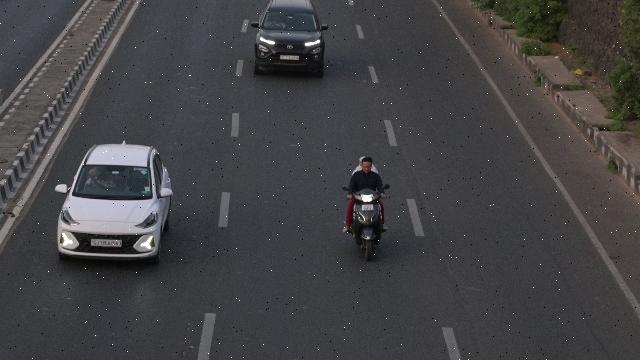Without Helmet: (358, 159, 376, 174)
